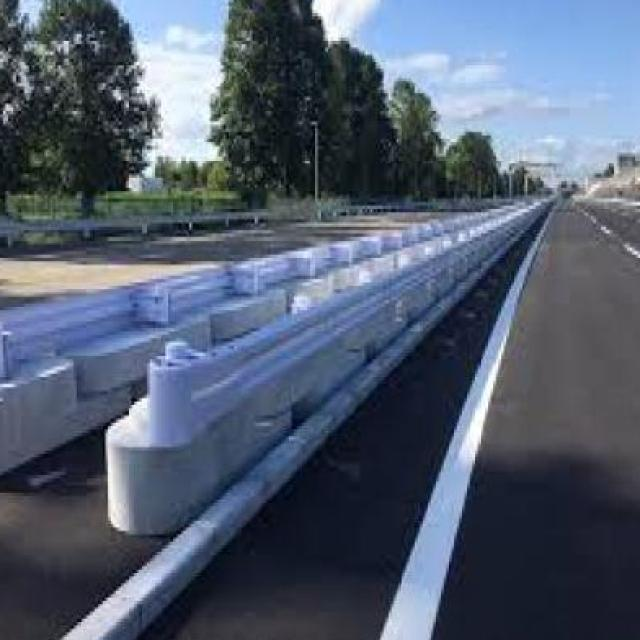Guard rail: (0, 191, 555, 545)
